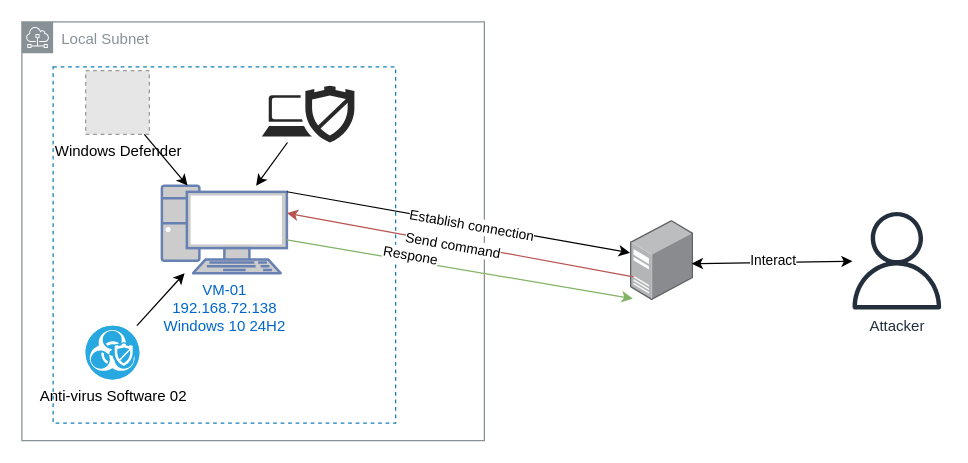
This 968x463 diagram has some shape labels left out. Grey dashed boxes stand in for pictures. Here are the shapes that lost their labels. From the top down, the box of each, then its label:
(261, 85, 354, 142): Anti-virus Software 01
(630, 220, 693, 300): Havoc Server 192.168.72.139 Ubuntu 22.04
